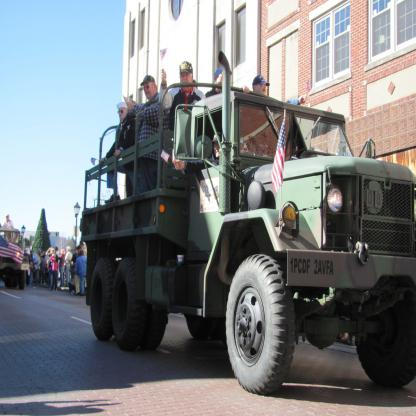Truck: (77, 75, 413, 400)
